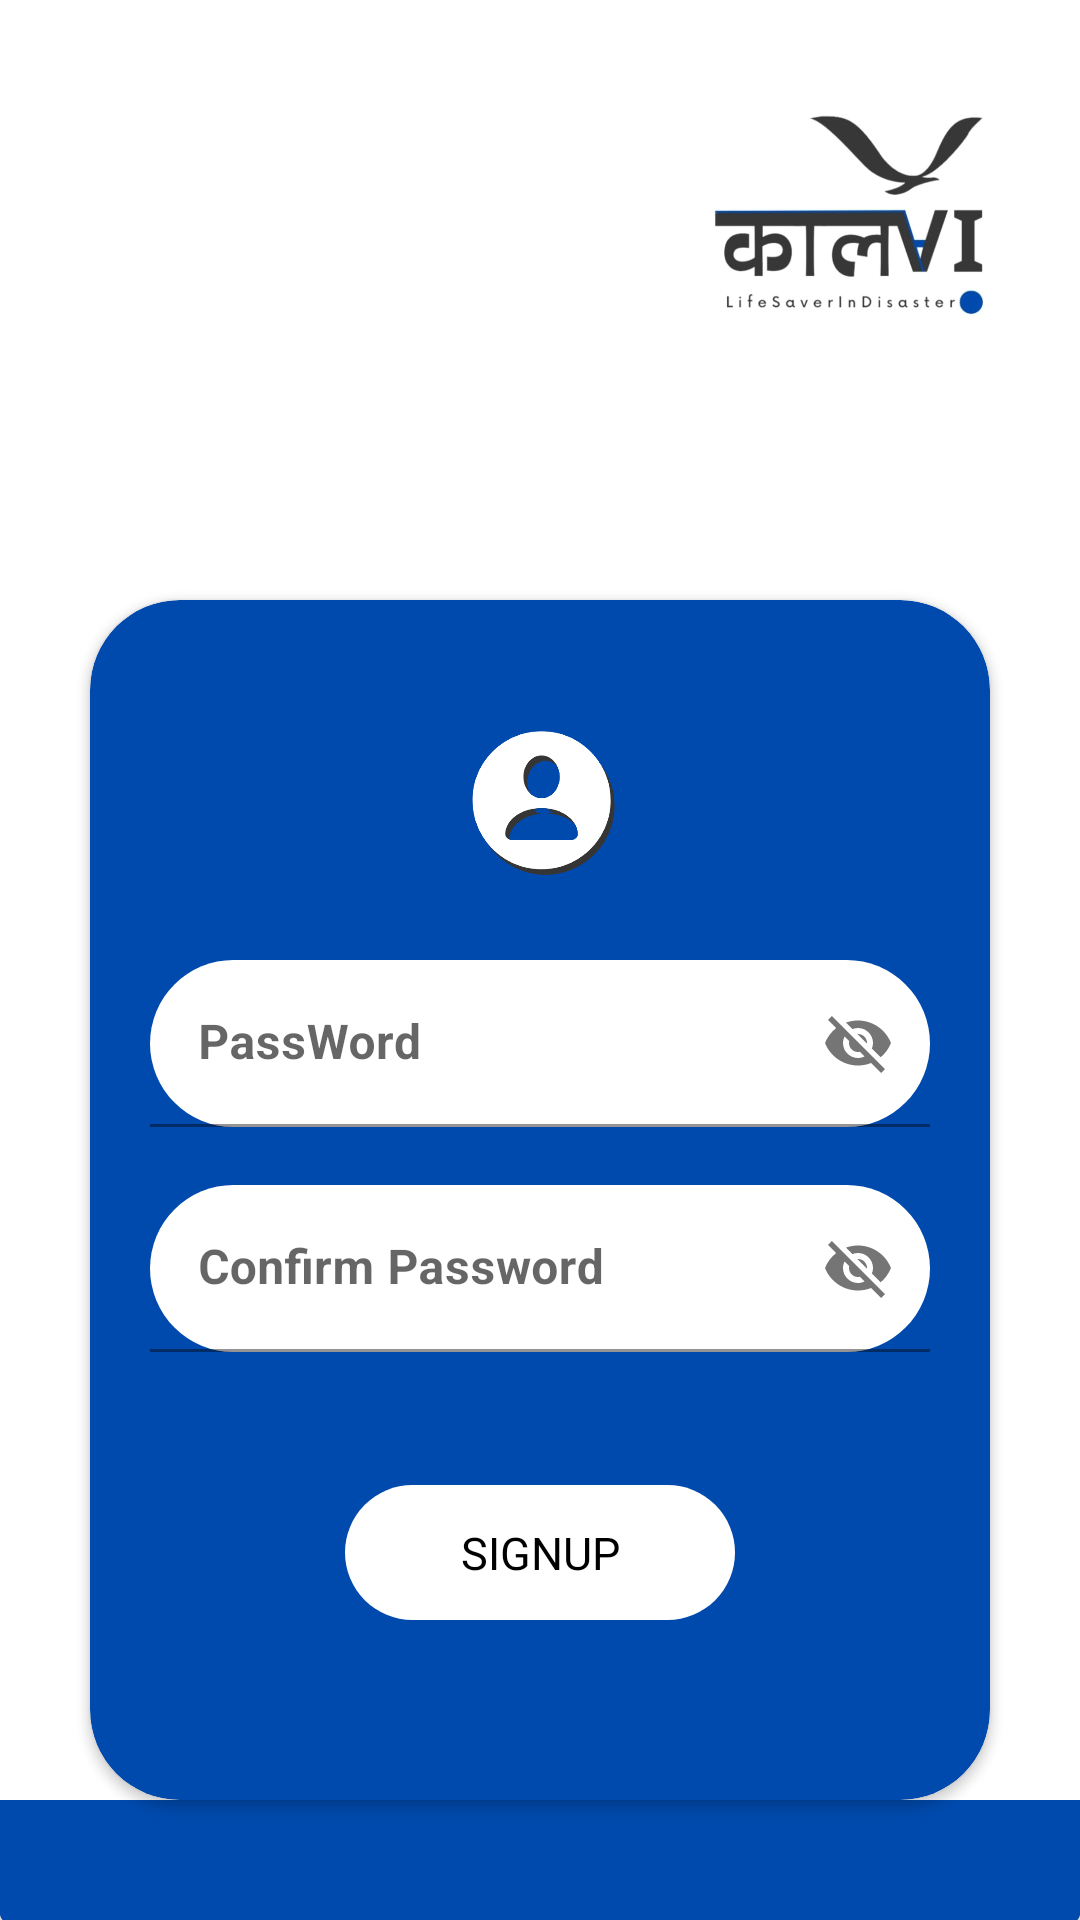

Point at icon controls on the screen. Image size 1080×1920, points as point (x, y).
kaalvi user: point (543, 803)
